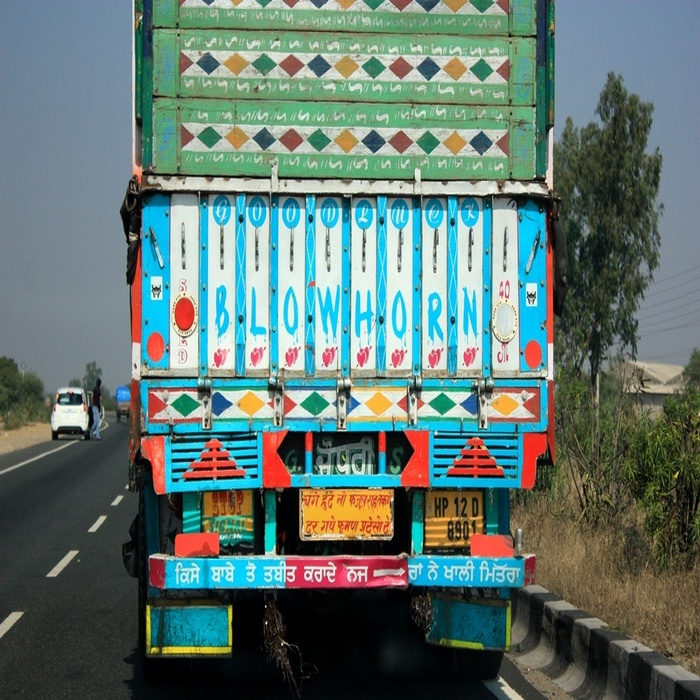n: (420, 490, 486, 549)
